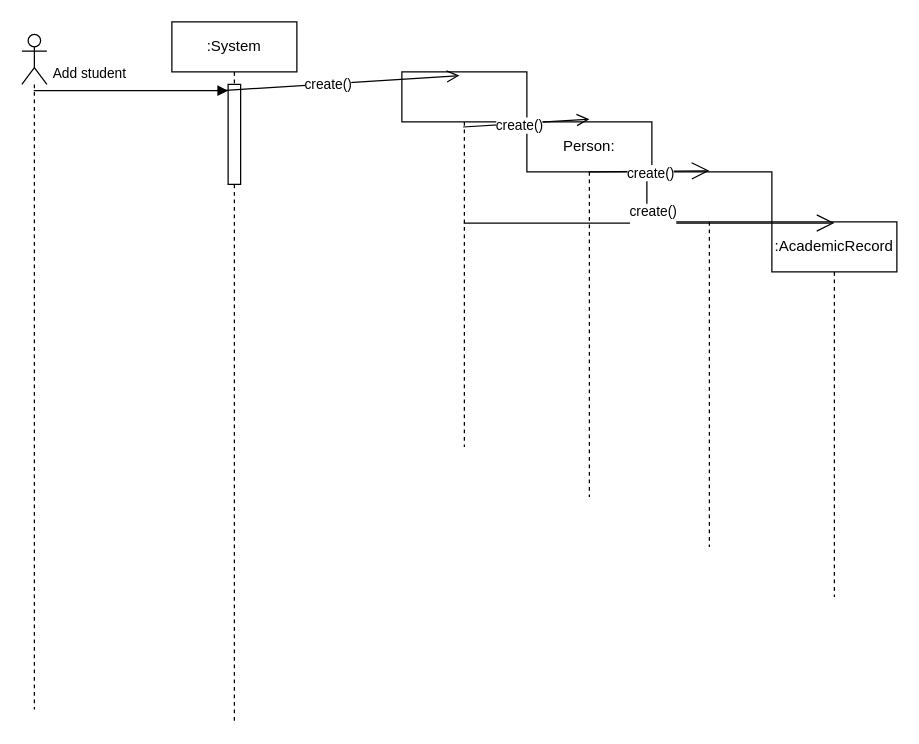
Some shapes in this 919 by 744 pixel diagram are drawn without their labels. The shapes that lost their labels are listed below. From the top down, each one's box as (x1, y1, x2, y2) in pixels, then its label:
(401, 71, 527, 447): :Student
(646, 171, 772, 547): :Address
